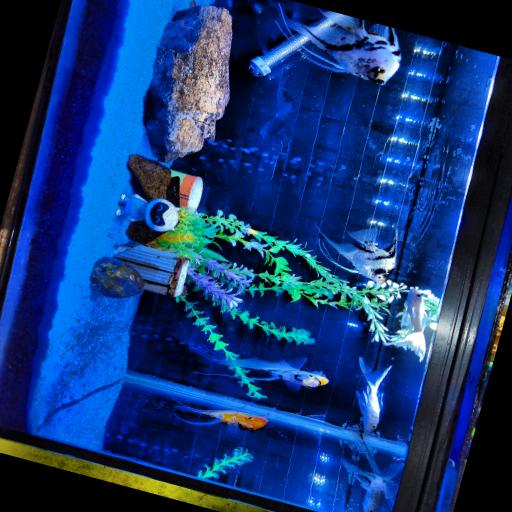Fish: (281, 10, 400, 83), (318, 227, 397, 284), (206, 355, 328, 388), (342, 459, 403, 511), (383, 288, 427, 360), (162, 403, 267, 431), (356, 357, 391, 430)
